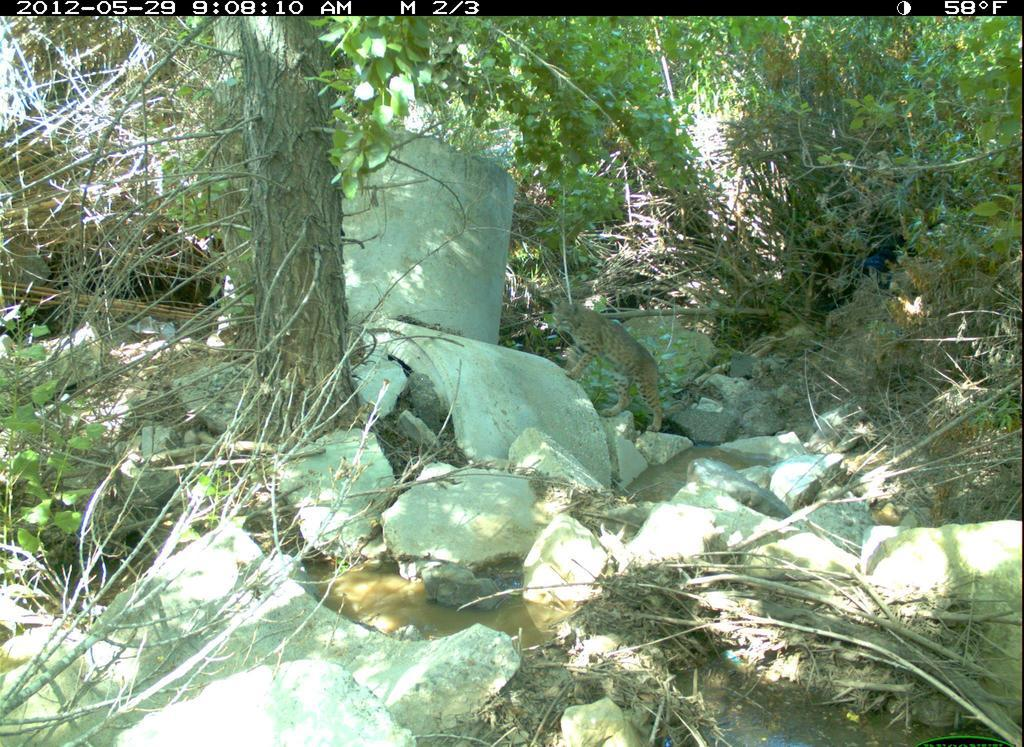bobcat: (545, 288, 690, 445)
